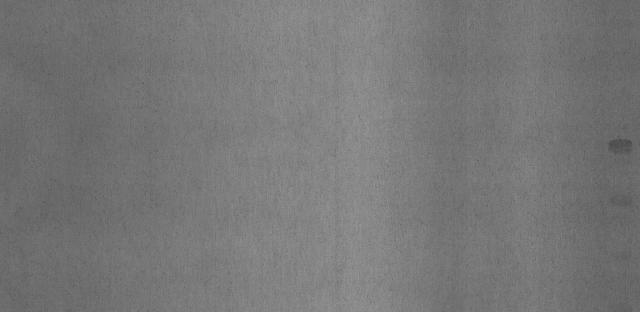oil_spot: (605, 134, 633, 156)
